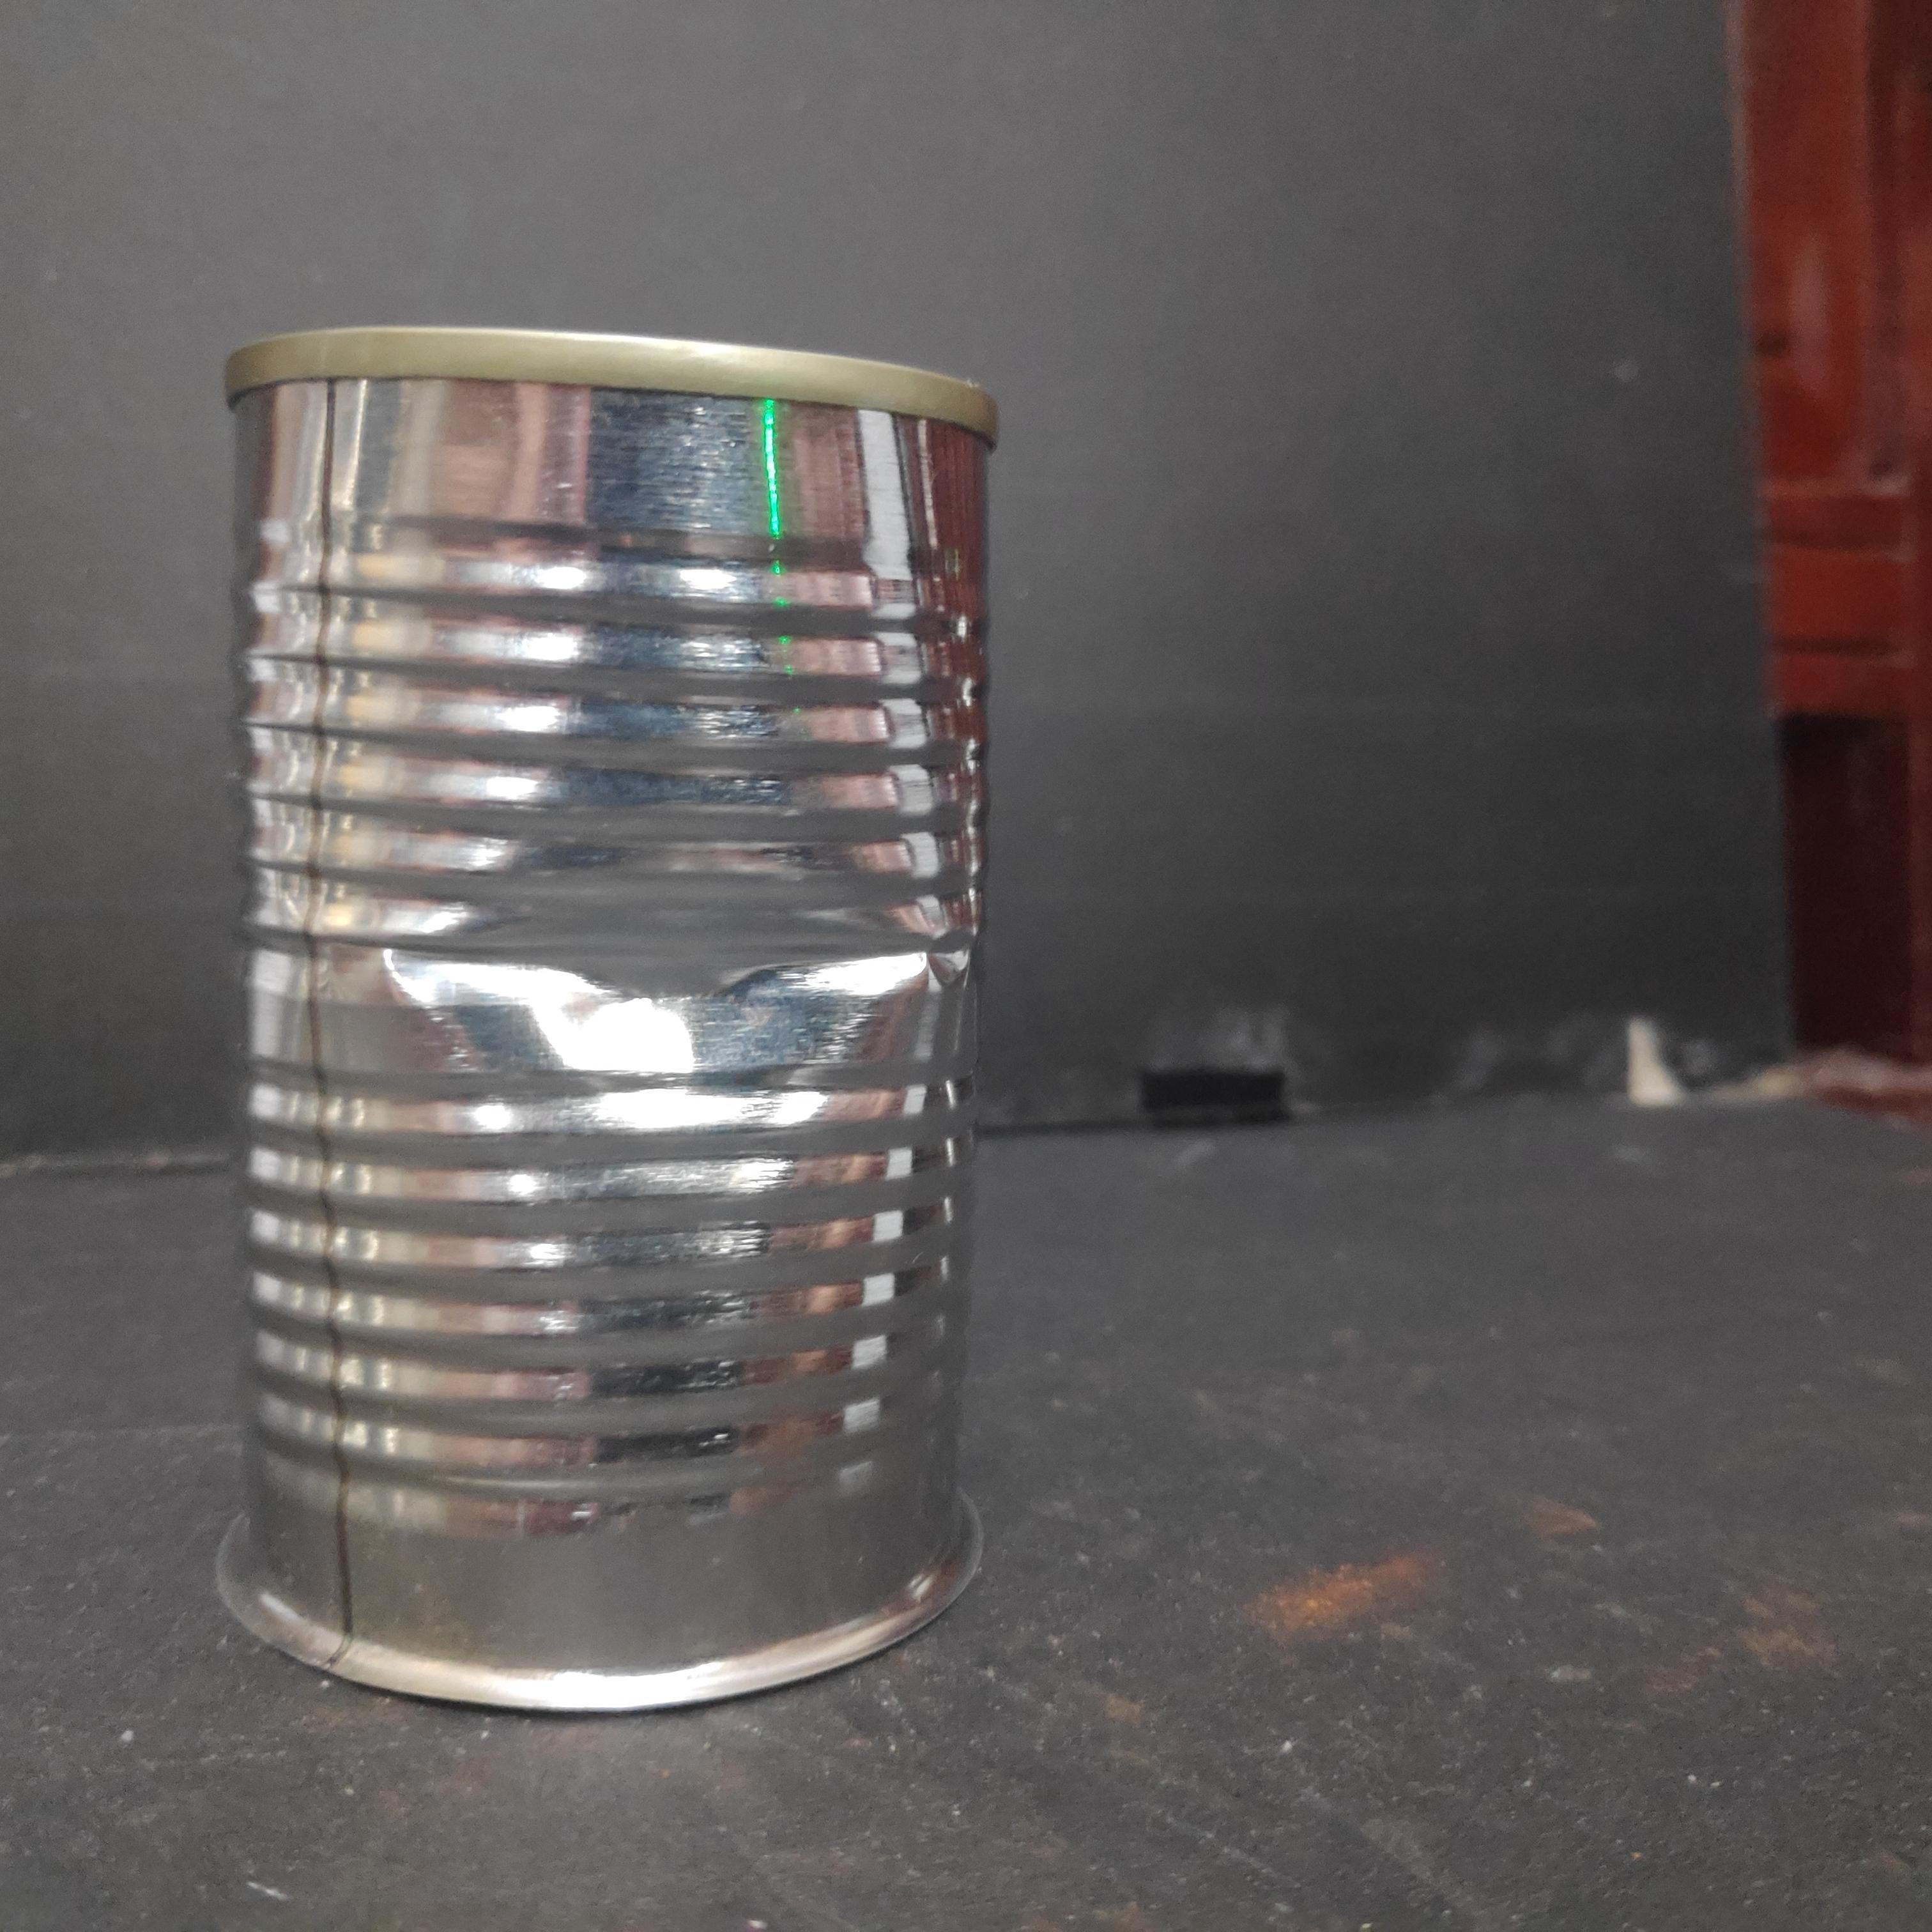Minor Defect: (209, 313, 1005, 1732)
